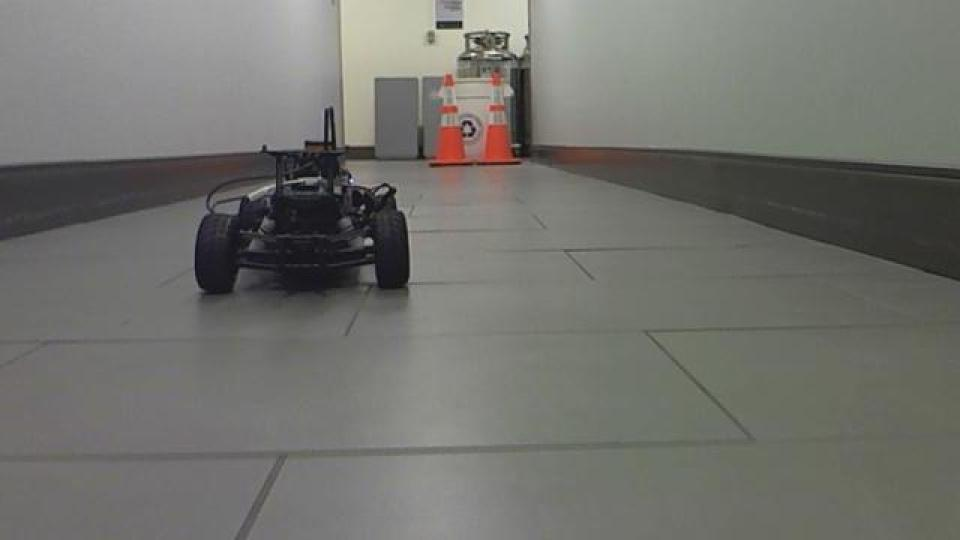car: (189, 105, 413, 297)
